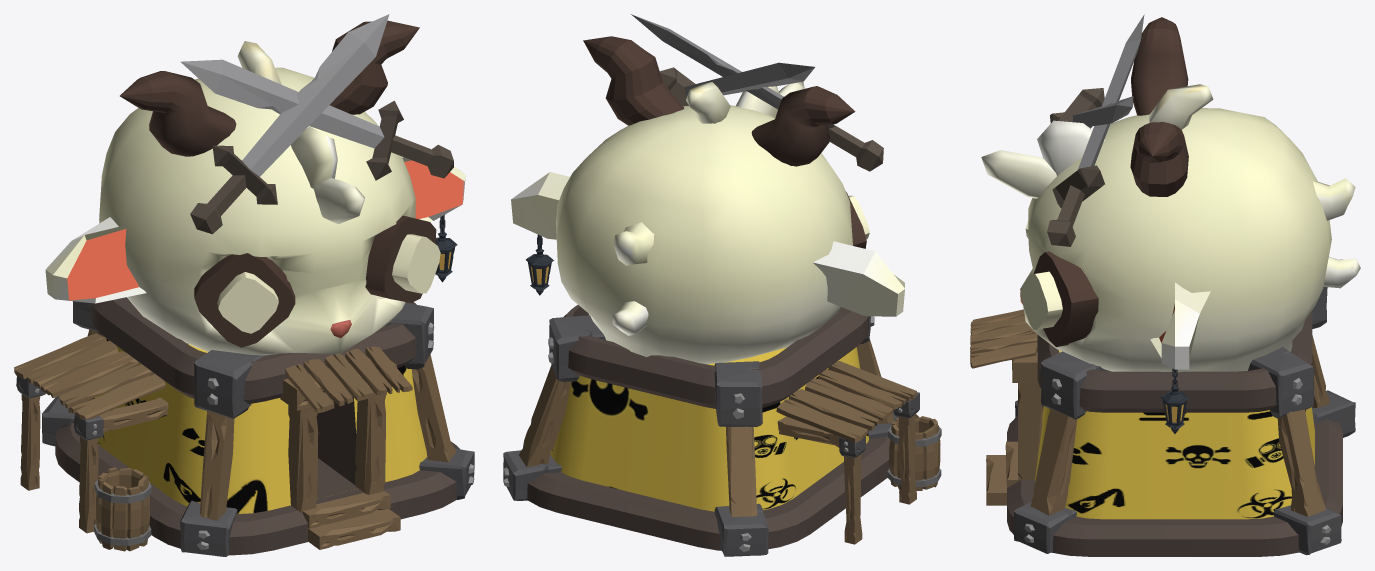
The model's file is Bingying.fbx.
The picture shows the model from 3 angles, left to right: view 1: azimuth 30°, elevation 25°; view 2: azimuth 150°, elevation 25°; view 3: azimuth 270°, elevation 25°; orthographic projection. The views are drawn at different scales.
Visible parts, largest first — view 1: Base; view 2: Base; view 3: Base.
Part boxes in pixels (x1,y1,x2,y2): Base: [14, 14, 474, 556]; Base: [503, 14, 941, 556]; Base: [970, 14, 1360, 556].
Size of the model in its own units: 70.72 by 73.37 by 60.14.
